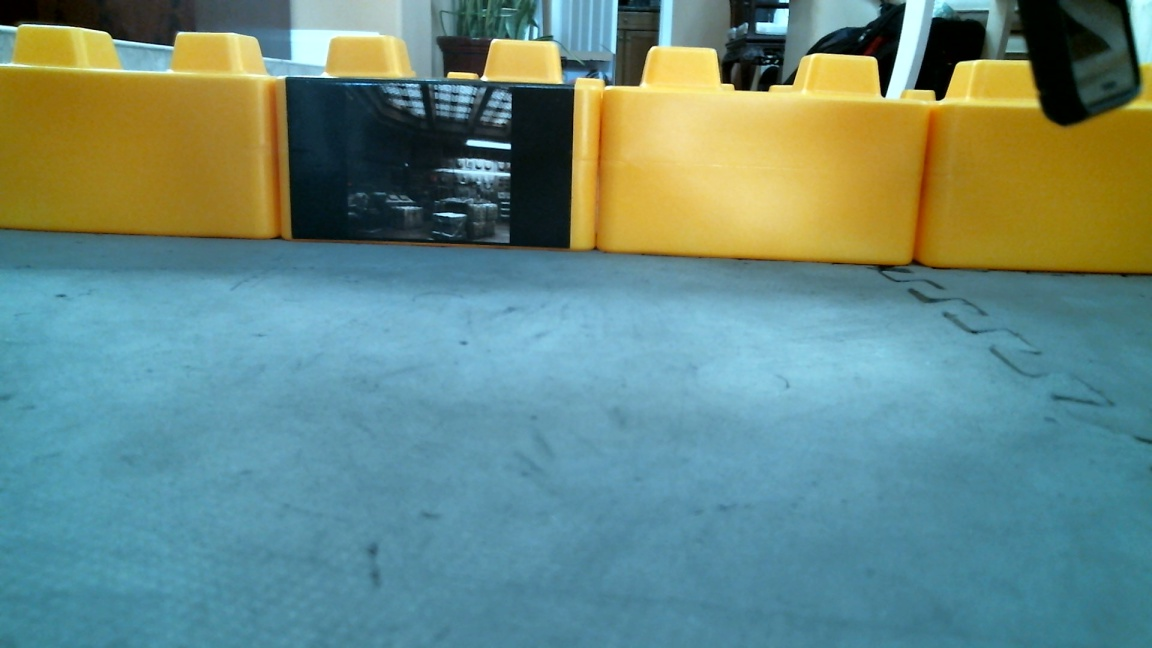skystone: (273, 33, 602, 251)
stone: (595, 46, 924, 266), (1, 24, 285, 242), (917, 58, 1152, 275)
